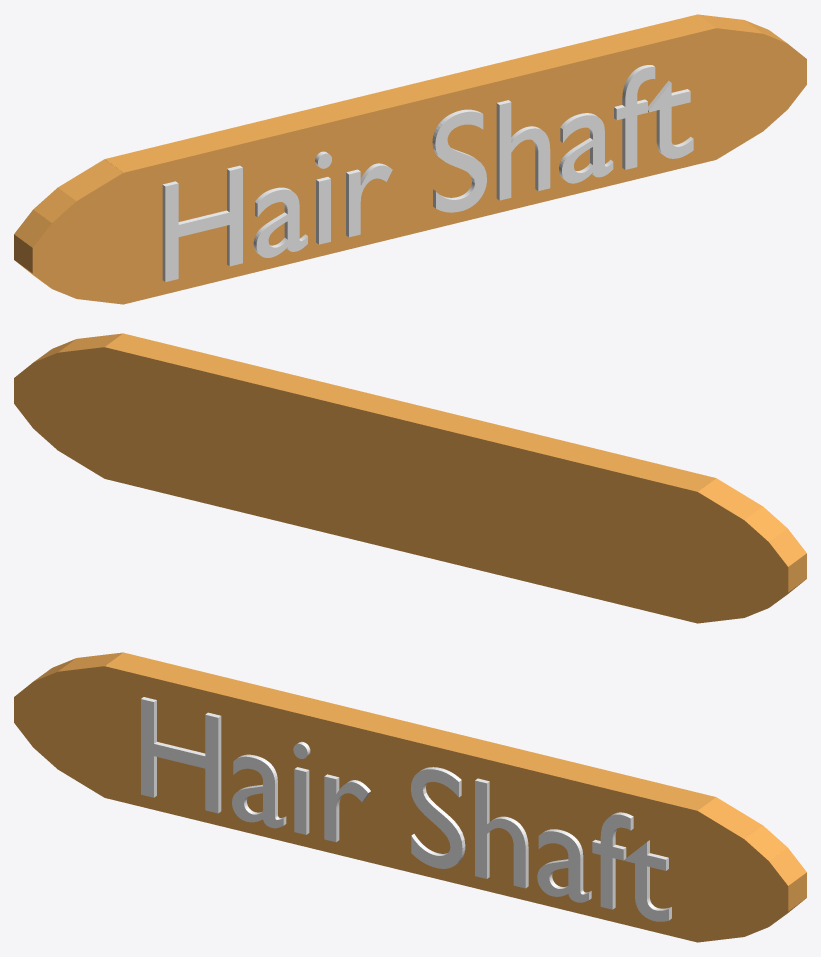
The model's file is txtHairShaft.fbx.
The picture shows the model from 3 angles, top to bottom: view 1: azimuth 30°, elevation 25°; view 2: azimuth 150°, elevation 25°; view 3: azimuth 330°, elevation 25°; orthographic projection.
Parts seen in each view (by area): view 1: TagContainer, Text.001; view 2: TagContainer; view 3: TagContainer, Text.001.
Part boxes in pixels (bbox=[...]): TagContainer: bbox=[14, 14, 806, 304]; Text.001: bbox=[162, 65, 693, 281]; TagContainer: bbox=[14, 333, 806, 623]; TagContainer: bbox=[14, 652, 806, 942]; Text.001: bbox=[141, 697, 671, 921].
Bounding box in the file's own units: 178 × 28.89 × 8.61.
